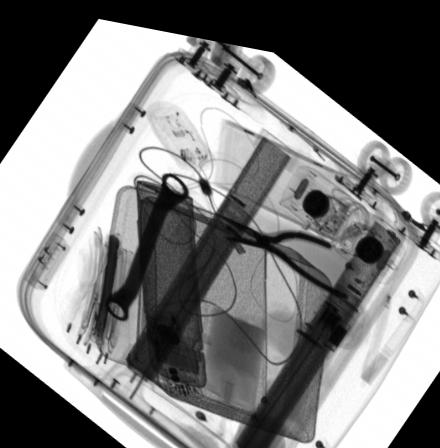Pliers: (214, 204, 352, 288)
Wrench: (103, 166, 189, 316)
